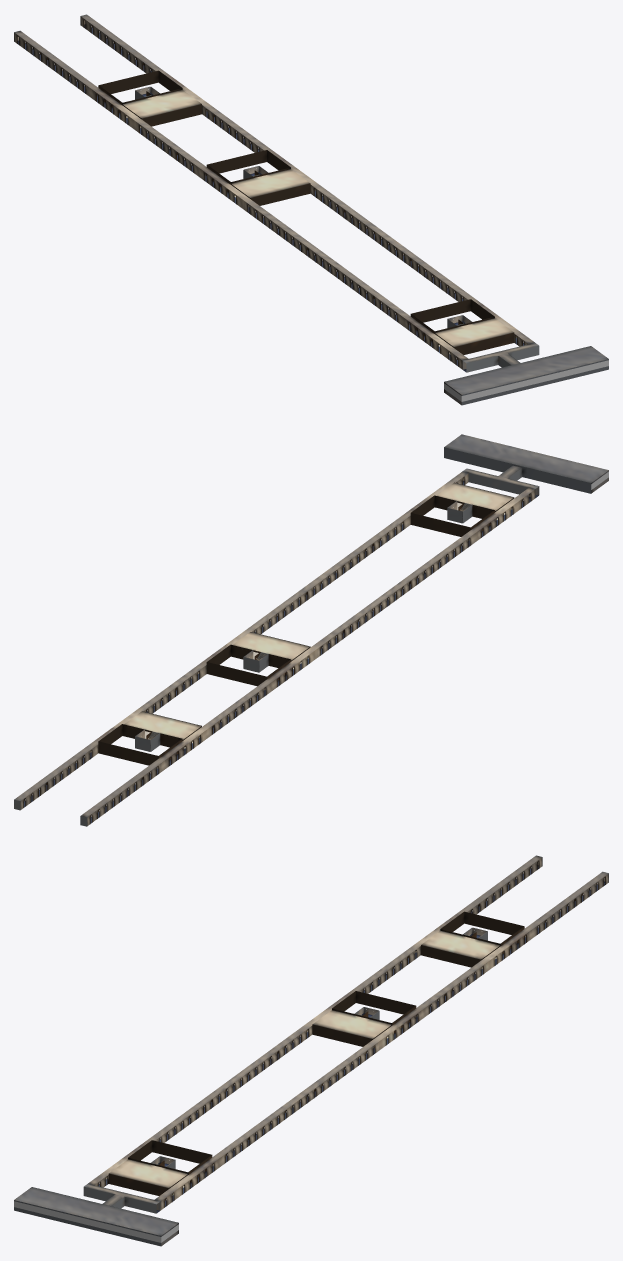
File: deck14.glb
3 views of the same model, one above another, from view 1: azimuth 30°, elevation 25°; view 2: azimuth 150°, elevation 25°; view 3: azimuth 330°, elevation 25° (orthographic).
Parts seen in each view (by area): view 1: kr_decke, kr_wand, kr_holz, kr_teppich_flur, kr_glas; view 2: kr_decke, kr_wand, kr_holz, kr_teppich_flur; view 3: kr_decke, kr_wand, kr_holz, kr_teppich_flur, kr_glas.
Boxes of the visible parts, left/top/right/bottom form: kr_decke: left=14, top=14, right=608, bottom=394; kr_wand: left=14, top=14, right=608, bottom=405; kr_holz: left=17, top=19, right=524, bottom=366; kr_teppich_flur: left=17, top=24, right=524, bottom=371; kr_glas: left=444, top=360, right=608, bottom=401; kr_decke: left=14, top=434, right=608, bottom=817; kr_wand: left=14, top=447, right=608, bottom=826; kr_holz: left=23, top=477, right=531, bottom=823; kr_teppich_flur: left=24, top=481, right=538, bottom=823; kr_decke: left=14, top=855, right=608, bottom=1235; kr_wand: left=14, top=855, right=608, bottom=1246; kr_holz: left=98, top=860, right=605, bottom=1207; kr_teppich_flur: left=98, top=865, right=605, bottom=1212; kr_glas: left=14, top=1201, right=178, bottom=1242.
Size of the model in its own units: 39.2 by 3 by 224.
